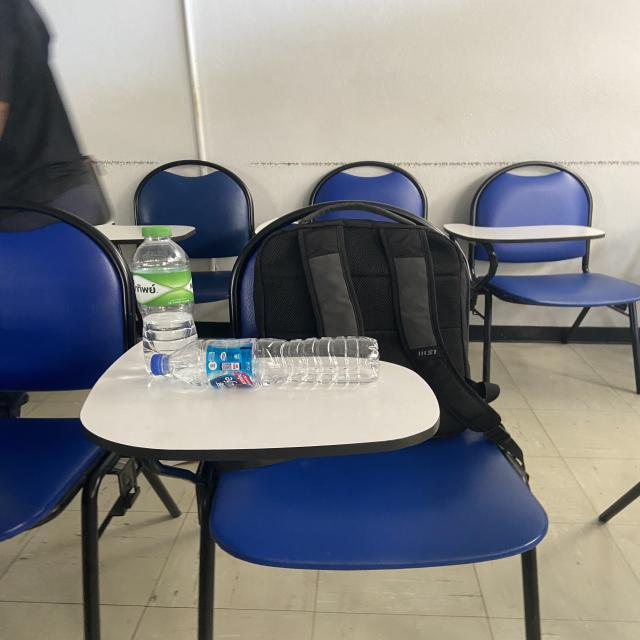bottle: (148, 336, 382, 389), (127, 226, 198, 380)
